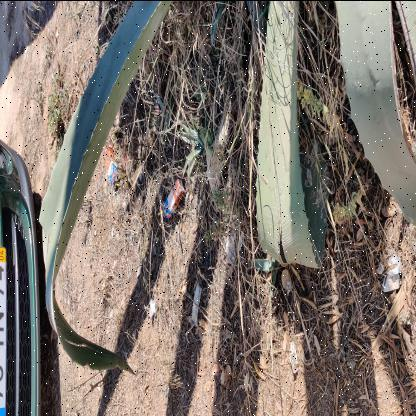cardboard: (163, 178, 185, 218), (104, 143, 119, 185)
